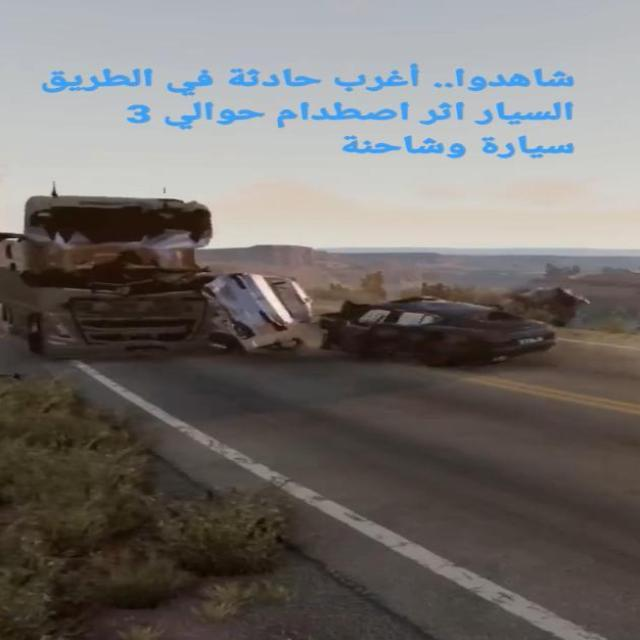accident: (0, 187, 578, 366)
